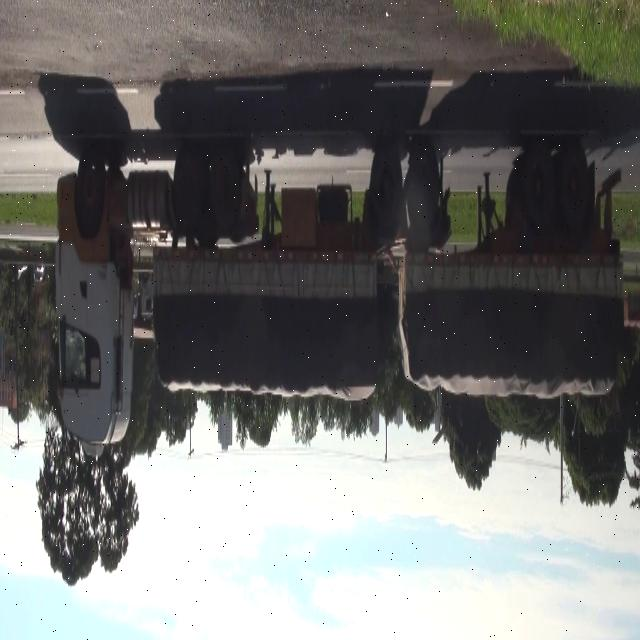-axle: (518, 138, 556, 243), (556, 137, 592, 241), (369, 141, 404, 240), (408, 137, 440, 238), (206, 144, 238, 227), (74, 154, 106, 230), (175, 146, 205, 223)
